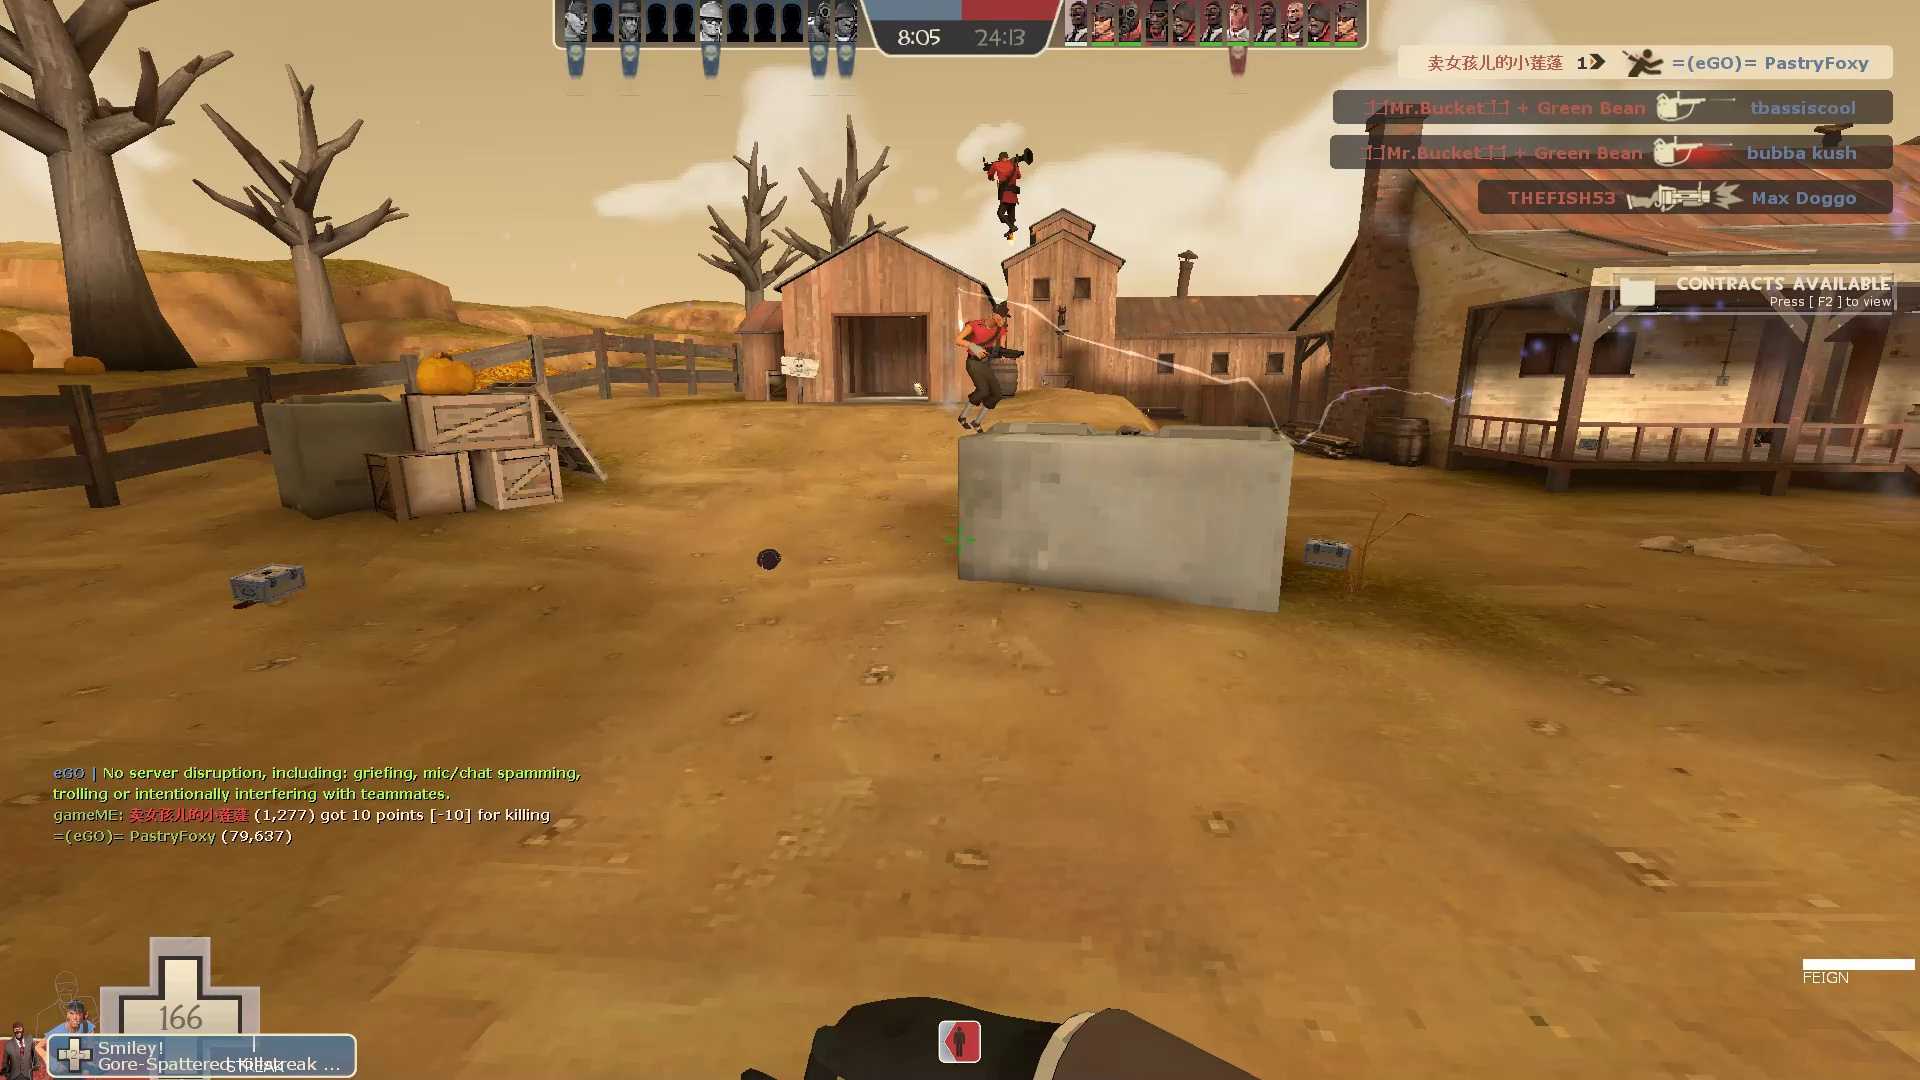red_scout: (951, 294, 1021, 439)
red_soldier: (978, 145, 1038, 249)
